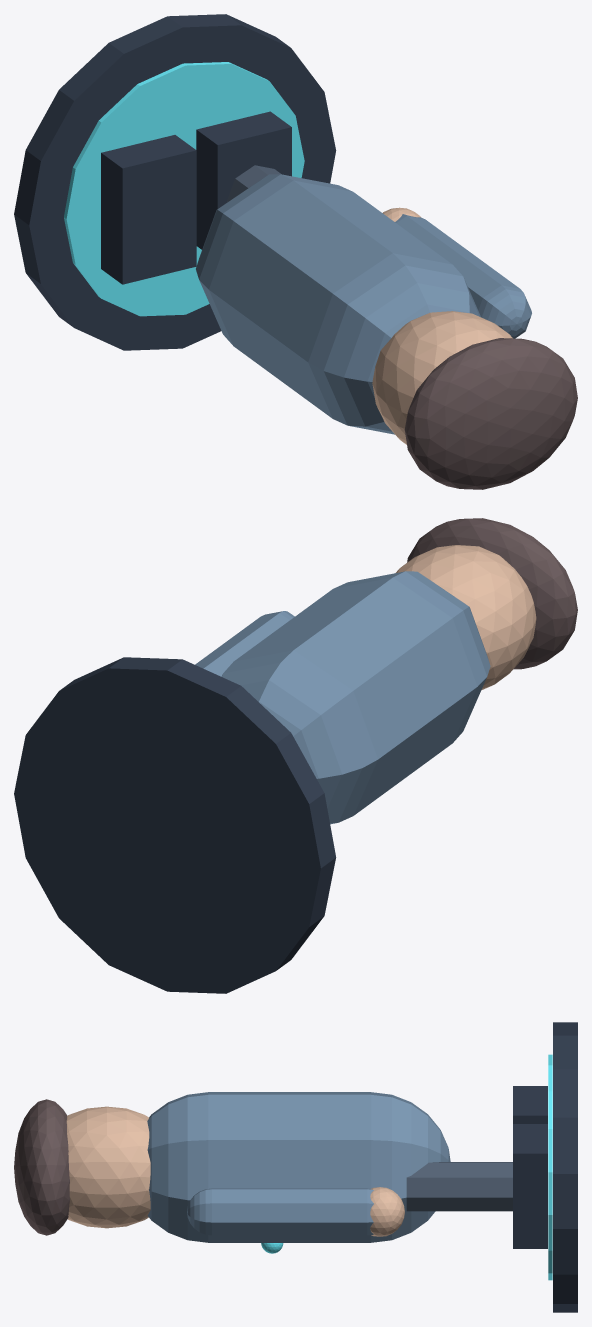
File: cybershield_human_man.glb
3 views of the same model, one above another, from view 1: azimuth 30°, elevation 25°; view 2: azimuth 150°, elevation 25°; view 3: azimuth 270°, elevation 25° (orthographic). The views are drawn at different scales.
Parts seen in each view (by area): view 1: torso, stable_base, hair_top, base_glow, left_shoe, head, right_shoe, arm, leg; view 2: stable_base, torso, head, hair_top, arm; view 3: torso, head, arm, stable_base, hair_top, leg, right_shoe, hand, left_shoe, base_glow.
Part boxes in pixels (x1,y1,x2,y2): torso: [196, 174, 480, 434]; stable_base: [14, 14, 336, 350]; hair_top: [404, 338, 577, 489]; base_glow: [64, 62, 304, 316]; left_shoe: [101, 135, 196, 284]; head: [372, 311, 512, 444]; right_shoe: [196, 111, 291, 249]; arm: [395, 214, 531, 338]; leg: [227, 165, 281, 201]; stable_base: [14, 657, 336, 993]; torso: [221, 571, 490, 824]; head: [396, 545, 536, 690]; hair_top: [407, 518, 577, 669]; arm: [195, 611, 294, 676]; torso: [147, 1092, 450, 1242]; head: [66, 1106, 150, 1228]; arm: [187, 1188, 373, 1235]; stable_base: [553, 1022, 577, 1312]; hair_top: [14, 1099, 69, 1235]; leg: [406, 1162, 512, 1211]; right_shoe: [513, 1124, 547, 1248]; hand: [370, 1187, 404, 1236]; left_shoe: [513, 1086, 547, 1123]; base_glow: [548, 1054, 552, 1280].
Bounding box in the file's own units: 1.16 × 1.16 × 2.25.
